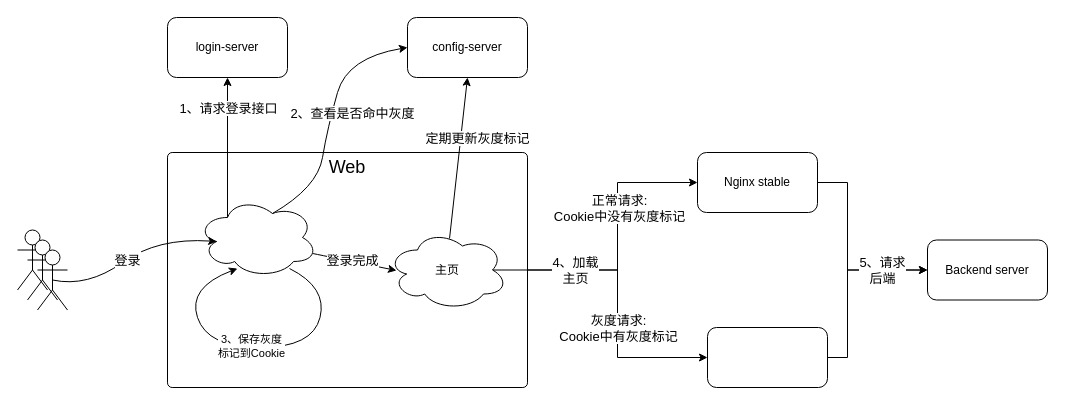
Image size: 1065x405. Some labels were removed from this diagram. Here are the shapes that lost their labels. From the top down, the centre of each, then its label:
At point (257, 237): "登录页".
At point (767, 357): "Nginx beta".
